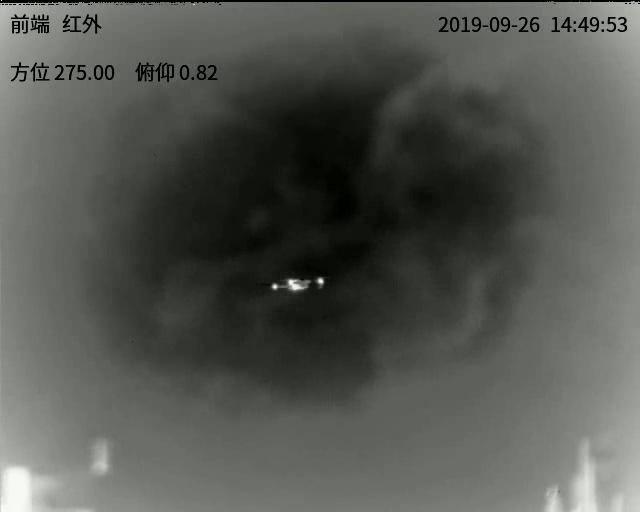DRONE: (271, 276, 325, 291)
